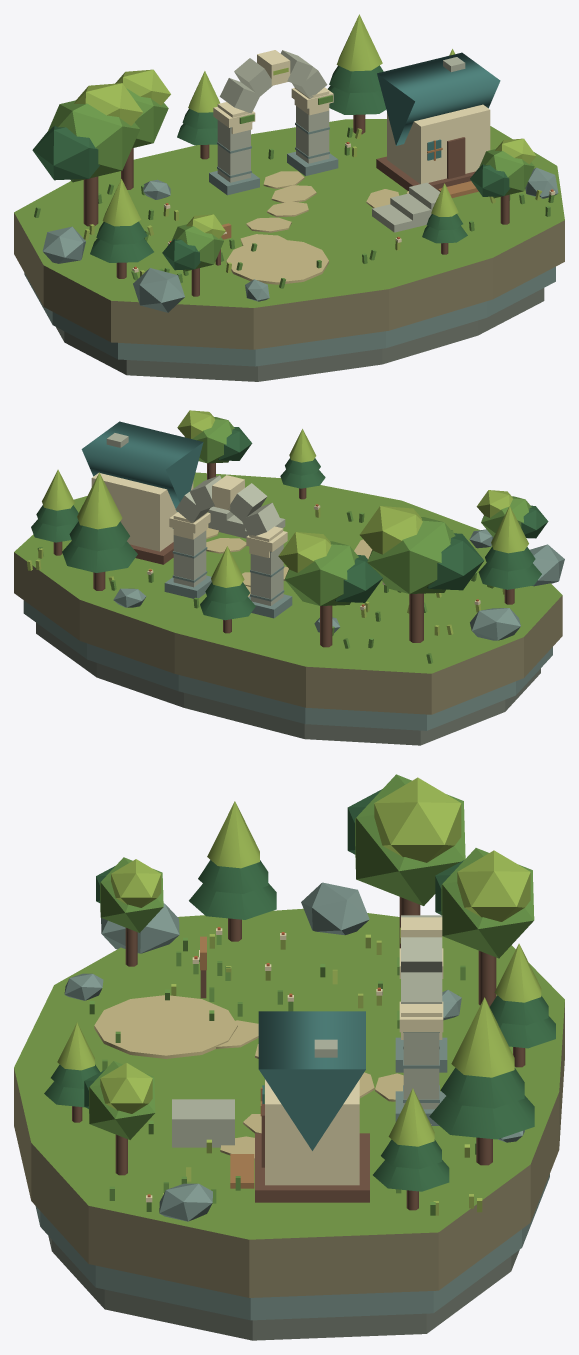
File: island.glb
3 renders of one model, top to bottom at view 1: azimuth 30°, elevation 25°; view 2: azimuth 150°, elevation 25°; view 3: azimuth 270°, elevation 25°, orthographic. The views are drawn at different scales.
Visible parts, largest first — view 1: IslandLayer (×3), leafDark (×10), stone (×9), leafLight (×8), leaf (×4), roof, cream (×2), stoneDark (×5), Arrival, wood (×3), sand (×4); view 2: IslandLayer (×3), leafDark (×14), leafLight (×9), leaf (×4), stone (×7), cream (×5), roof, stoneDark (×5), wood (×3), sand; view 3: IslandLayer (×3), leafLight (×9), leafDark (×10), leaf (×4), roof, cream (×3), stone (×4), stoneDark (×4), Arrival, wood (×2), woodLight.
Part boxes in pixels (box(x1,y1,x2,y2)): IslandLayer (×3): box(14, 119, 564, 381); leafDark (×10): box(32, 65, 510, 270); stone (×9): box(217, 50, 440, 232); leafLight (×8): box(74, 14, 536, 238); leaf (×4): box(48, 88, 534, 271); roof: box(377, 52, 500, 145); cream (×2): box(257, 50, 490, 183); stoneDark (×5): box(42, 151, 558, 312); Arrival: box(226, 239, 328, 284); wood (×3): box(83, 137, 475, 226); sand (×4): box(246, 171, 316, 232); IslandLayer (×3): box(14, 472, 562, 745); leafDark (×14): box(31, 427, 548, 620); leafLight (×9): box(42, 410, 528, 587); leaf (×4): box(185, 417, 531, 605); stone (×7): box(173, 475, 283, 605); cream (×5): box(91, 473, 287, 557); roof: box(81, 421, 203, 511); stoneDark (×5): box(113, 544, 564, 640); wood (×3): box(130, 542, 423, 647); sand: box(206, 538, 246, 553); IslandLayer (×3): box(14, 908, 564, 1340); leafLight (×9): box(57, 777, 541, 1146); leafDark (×10): box(44, 860, 555, 1191); leaf (×4): box(88, 774, 534, 1139); roof: box(258, 1011, 365, 1150); cream (×3): box(265, 917, 443, 1185); stone (×4): box(172, 937, 442, 1147); stoneDark (×4): box(64, 882, 369, 1221); Arrival: box(94, 995, 237, 1058); wood (×2): box(255, 951, 496, 1202); woodLight: box(230, 1154, 254, 1188).
Size of the model in its own units: 13.7 by 5.69 by 9.6.
